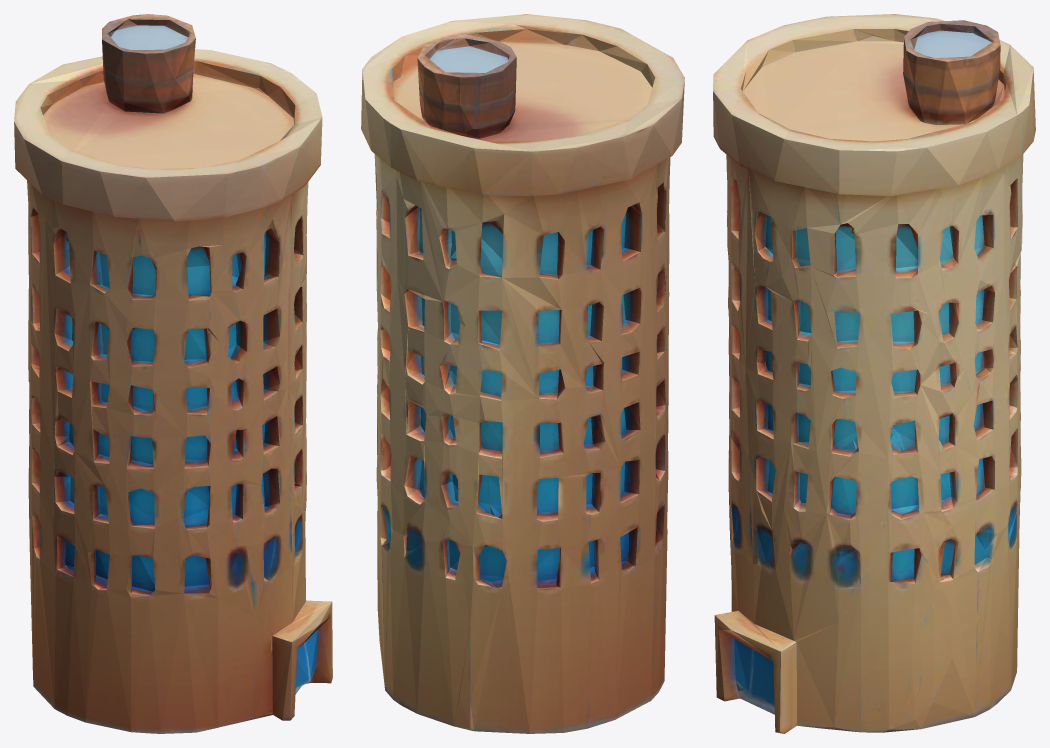
File: b-office.glb
3 views of the same model, side by side, from view 1: azimuth 30°, elevation 25°; view 2: azimuth 150°, elevation 25°; view 3: azimuth 270°, elevation 25° (orthographic). The views are drawn at different scales.
Visible parts, largest first — view 1: geometry_0; view 2: geometry_0; view 3: geometry_0.
Part boxes in pixels (x1,y1,x2,y2): geometry_0: (14,14,332,733); geometry_0: (361,14,684,733); geometry_0: (713,14,1035,733).
Size of the model in its own units: 0.4578 by 1 by 0.4553.
1 material, 1 textured.
